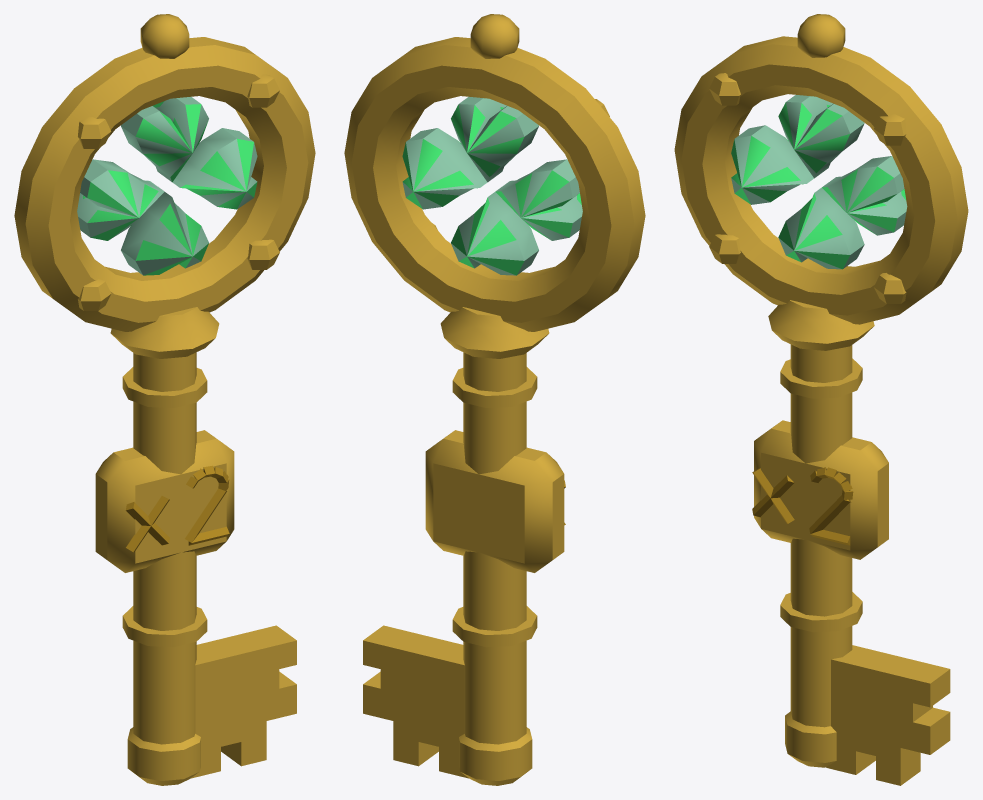
File: 98_x2_luck_key.fbx
3 views of the same model, side by side, from view 1: azimuth 30°, elevation 25°; view 2: azimuth 150°, elevation 25°; view 3: azimuth 330°, elevation 25° (orthographic). The views are drawn at different scales.
Visible parts, largest first — view 1: Anneau, Tige, Trefle, Panneton; view 2: Anneau, Tige, Trefle, Panneton; view 3: Anneau, Tige, Trefle, Panneton.
Boxes of the visible parts, x1,y1,x2,y2 form: Anneau: [14, 14, 315, 358]; Tige: [95, 352, 234, 744]; Trefle: [77, 96, 257, 275]; Panneton: [127, 625, 296, 785]; Anneau: [344, 14, 645, 358]; Tige: [425, 352, 565, 744]; Trefle: [402, 96, 582, 275]; Panneton: [363, 625, 532, 785]; Anneau: [674, 14, 968, 350]; Tige: [752, 344, 888, 727]; Trefle: [731, 95, 907, 269]; Panneton: [785, 645, 950, 785].
Bounding box in the file's own units: 0.336 × 0.84 × 0.112.
1 material, 1 textured.
